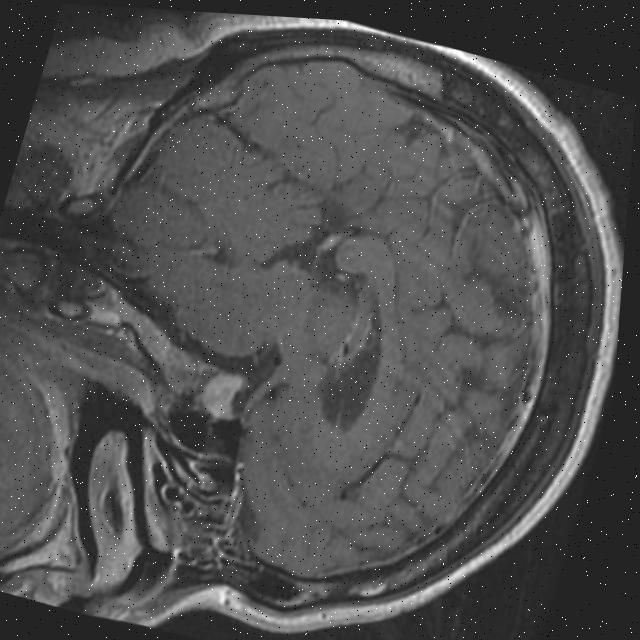Pituitary: (192, 366, 246, 426)
